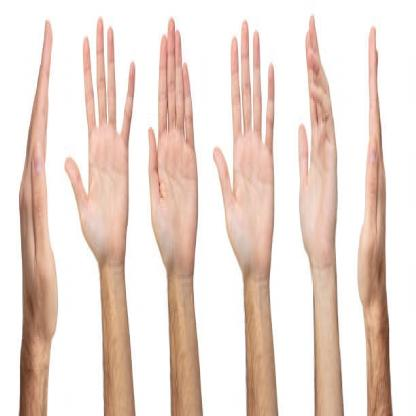palm: (64, 6, 134, 266), (212, 21, 276, 267), (147, 15, 199, 269)
